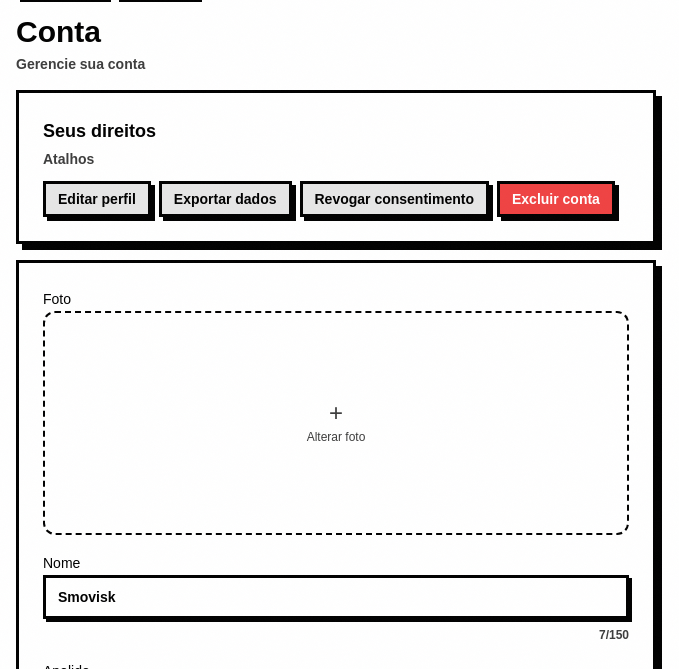
Test: formulário de perfil › exibe erro de campo ao salvar perfil com 400 fieldError
This screenshot has width=679, height=669.
Replace the text in the field labelled "Nome" with "outro" at (336, 597), box [43,575,629,619]
(page scrolled)
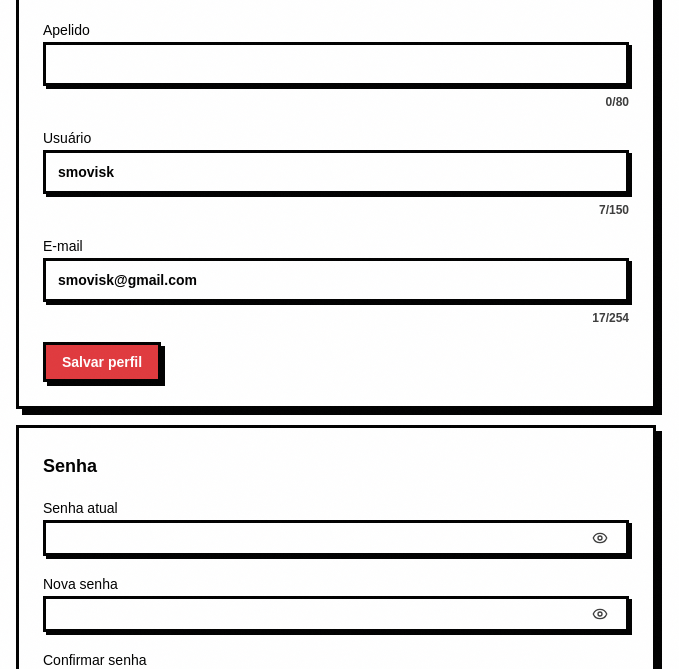
Click the button "Salvar perfil" at (102, 362), box [43,342,161,382]
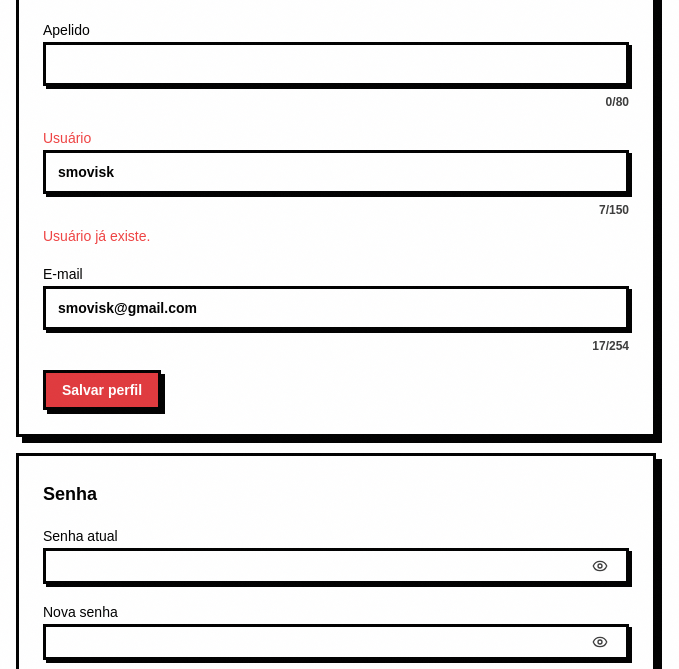
Now the text "Usuário já existe." is shown, box [43,228,150,244]
